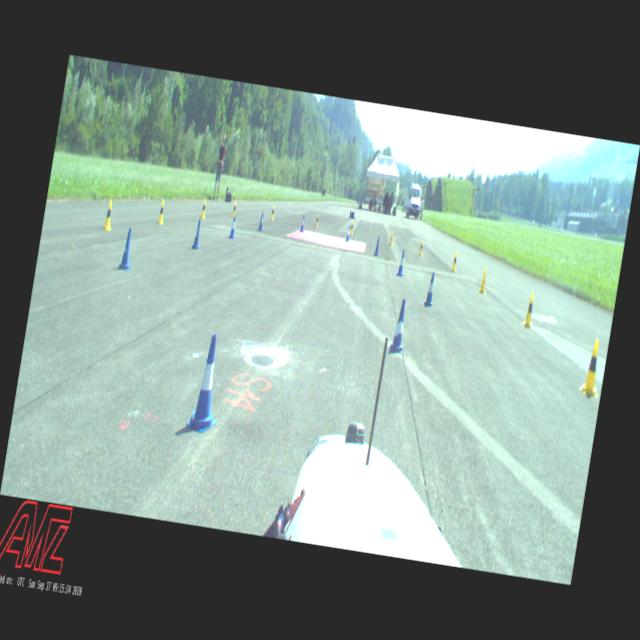blue_cone: (190, 332, 226, 430), (390, 297, 410, 353), (119, 227, 136, 270), (424, 272, 437, 307), (192, 219, 204, 250), (397, 250, 407, 276), (229, 215, 238, 239), (258, 211, 265, 231), (374, 236, 381, 256), (300, 215, 306, 232), (346, 226, 352, 242), (352, 212, 356, 220)
yellow_cone: (580, 338, 604, 396), (522, 292, 536, 328), (104, 200, 115, 230), (478, 268, 488, 294), (158, 200, 166, 225), (451, 252, 459, 272), (200, 200, 208, 218), (418, 240, 425, 256), (232, 200, 238, 218), (388, 230, 394, 246), (314, 214, 320, 228), (270, 206, 275, 220), (350, 220, 355, 234)
